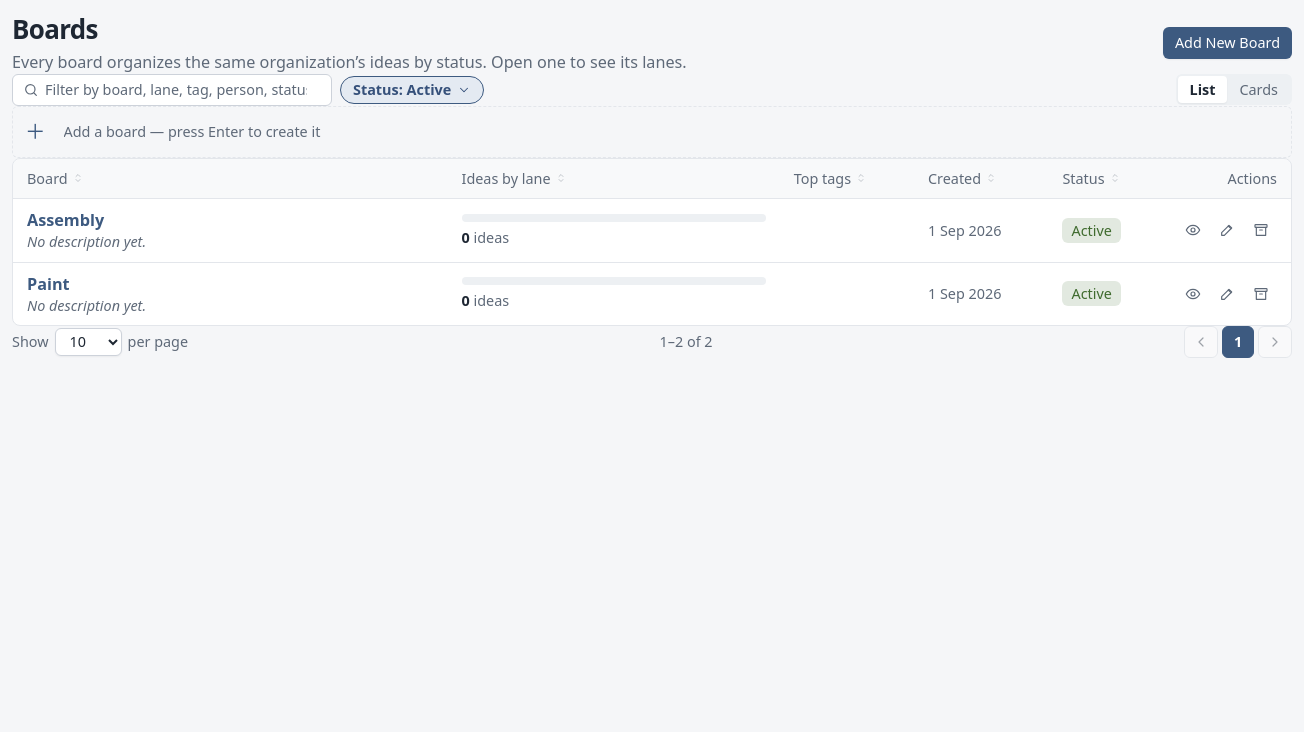
Scenario: Boards quick-add bar › creates directly: the trimmed name goes to quickAddBoard with the page’s lane ids
Type "  Paint shop  " into the field named "Quick add board" at (666, 132), box [54,115,1279,149]
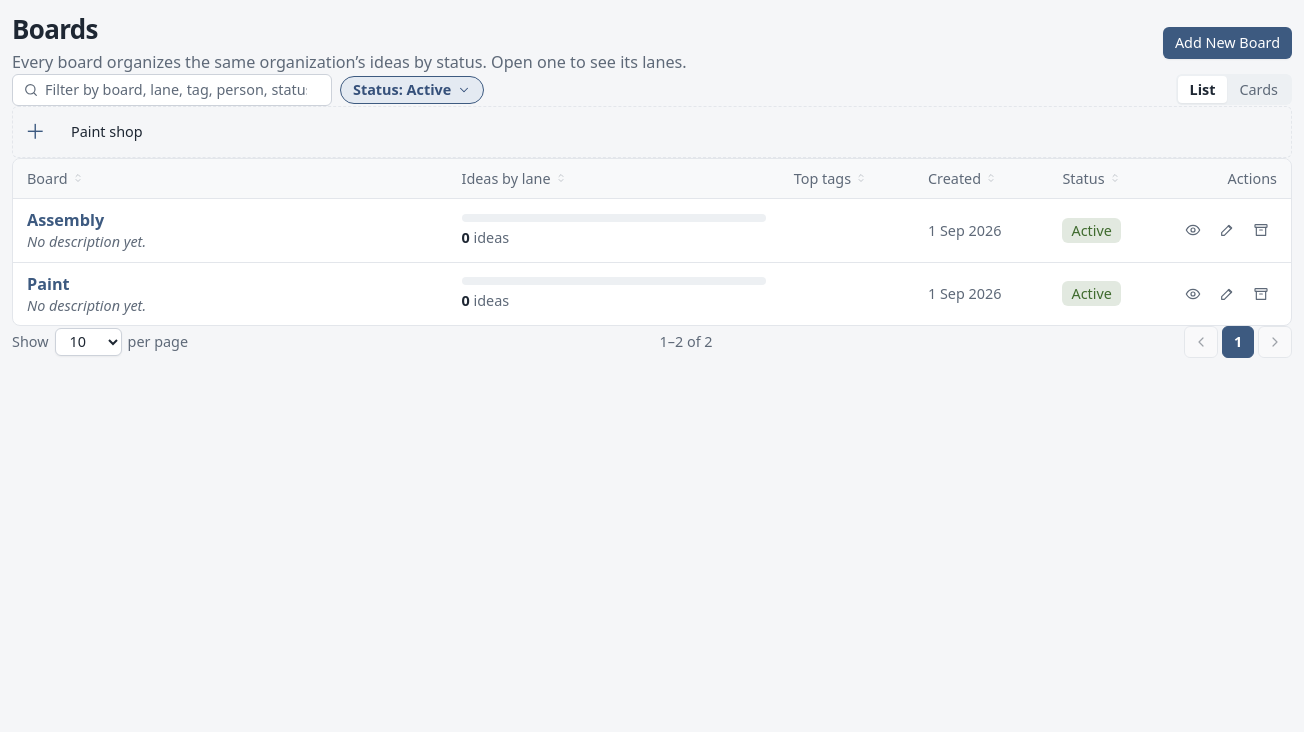
Press Enter in the field named "Quick add board", box [54,115,1279,149]
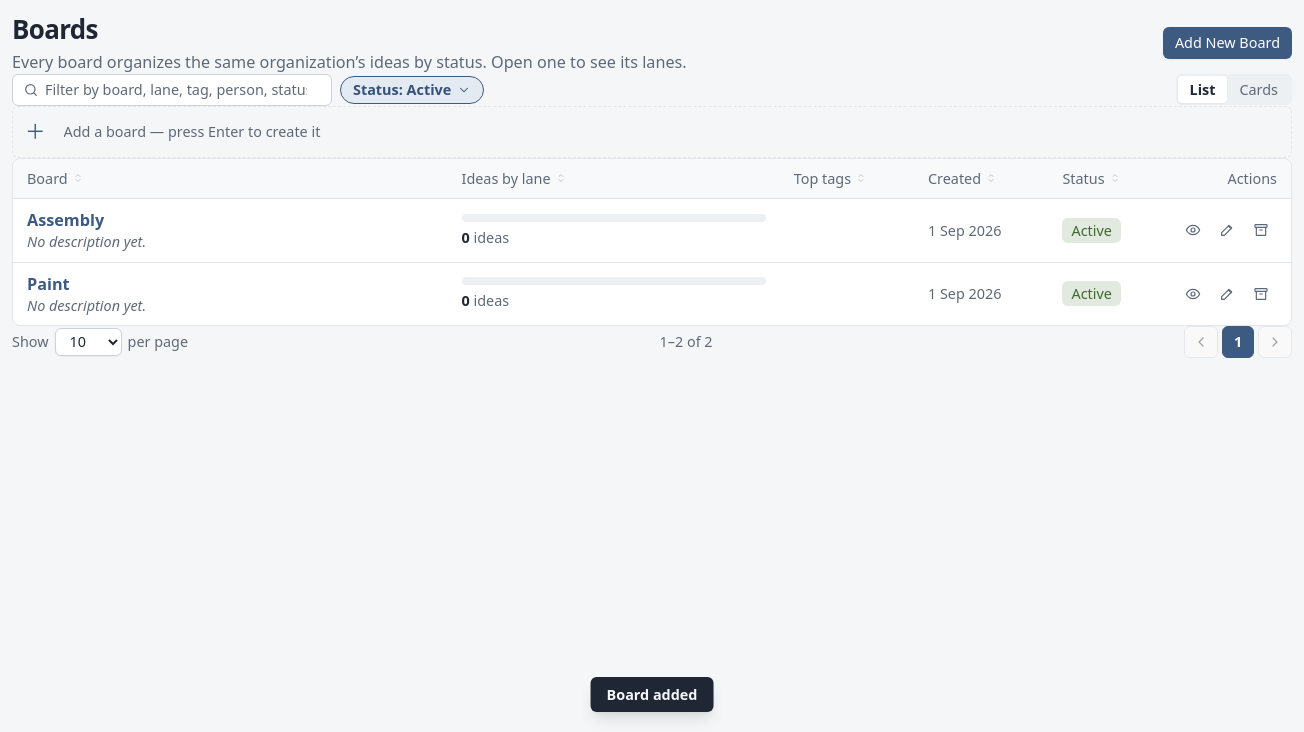
Now the field named "Quick add board" is empty, box [54,115,1279,149]
Now the message reads "Board added", box [606,685,697,704]
